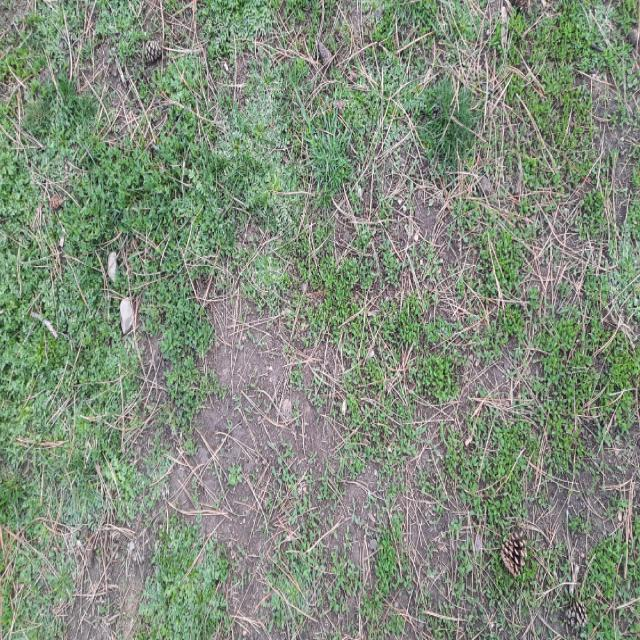grass: (0, 0, 551, 540), (412, 0, 639, 479), (133, 513, 231, 639), (581, 533, 639, 637), (0, 554, 54, 638)
white-sand: (0, 0, 639, 639)
